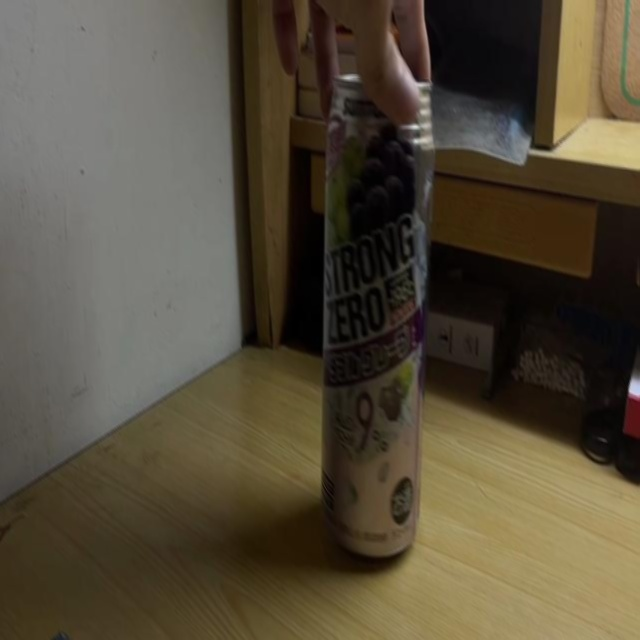Liquor: (323, 70, 434, 559)
